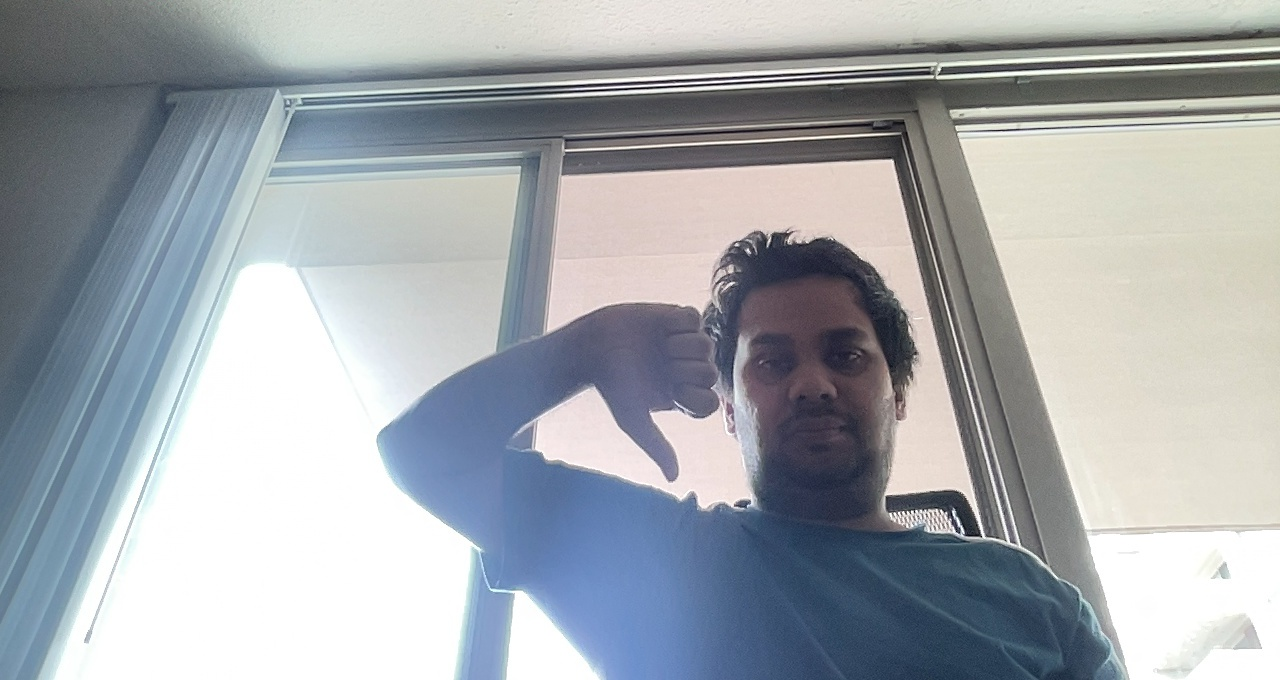thumbsdown: (576, 297, 730, 490)
